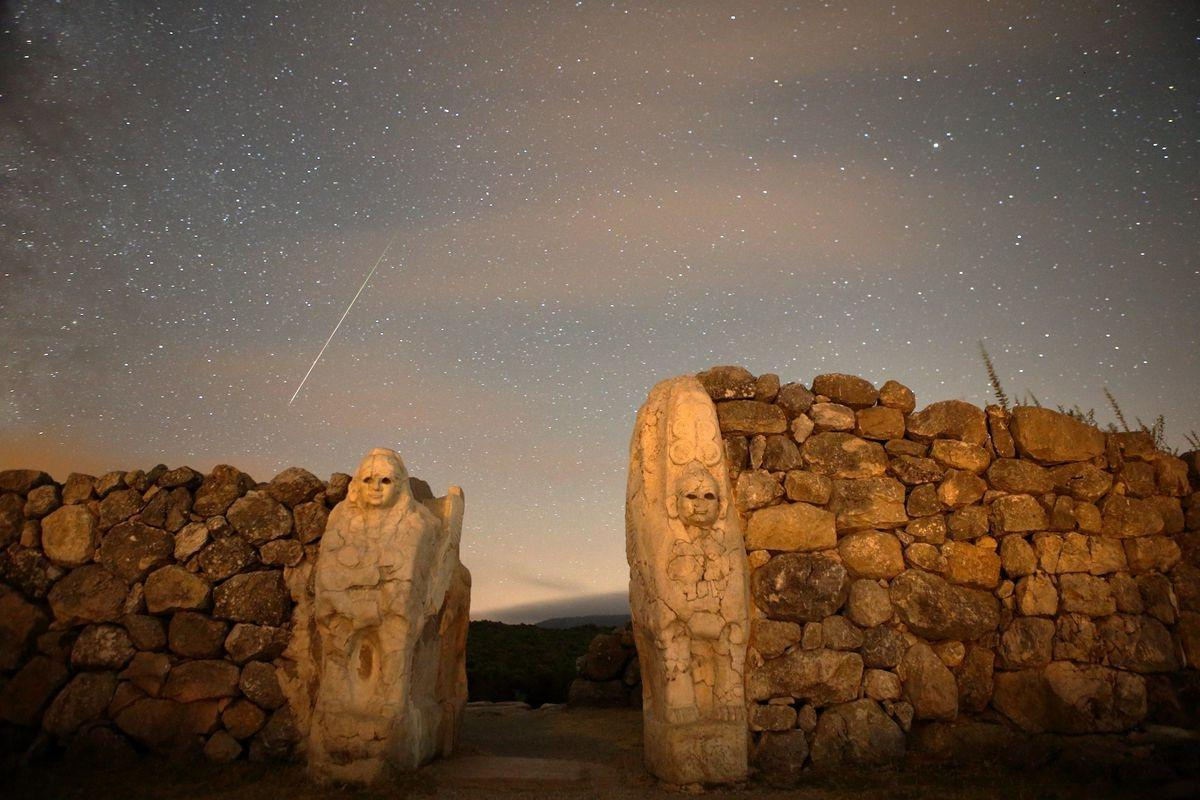meteorite: (276, 223, 412, 414)
